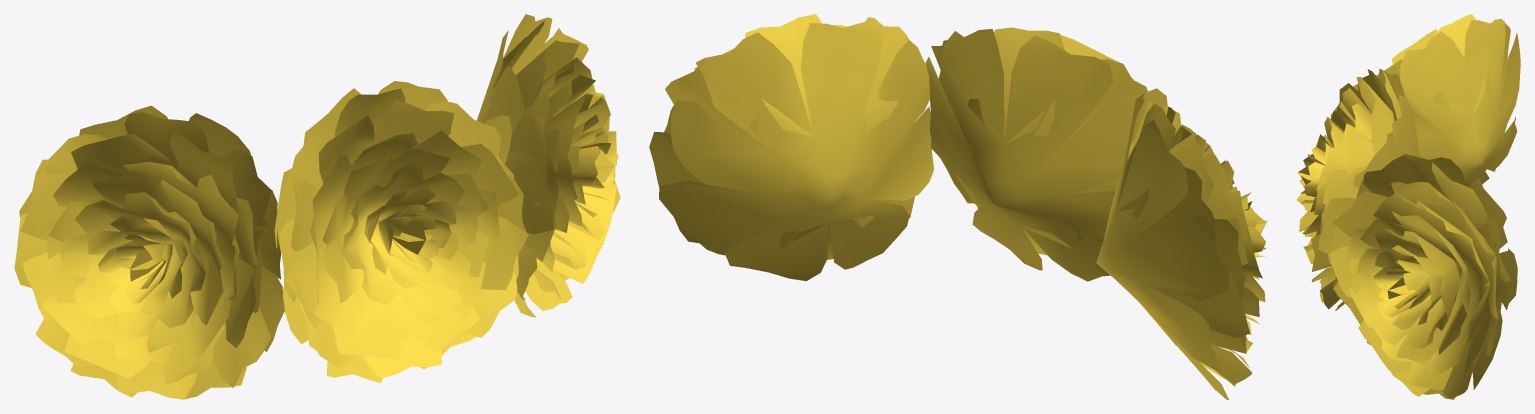
File: pm0477_00_Rig.fbx
3 views of the same model, side by side, from view 1: azimuth 30°, elevation 25°; view 2: azimuth 150°, elevation 25°; view 3: azimuth 270°, elevation 25° (orthographic). The views are drawn at different scales.
Parts seen in each view (by area): view 1: doodad_diadelosmuertos_2022_flower (1), doodad_diadelosmuertos_2022_flower, doodad_diadelosmuertos_2022_flower (2); view 2: doodad_diadelosmuertos_2022_flower (2), doodad_diadelosmuertos_2022_flower, doodad_diadelosmuertos_2022_flower (1); view 3: doodad_diadelosmuertos_2022_flower (2), doodad_diadelosmuertos_2022_flower (1), doodad_diadelosmuertos_2022_flower.
Part boxes in pixels (<box>): doodad_diadelosmuertos_2022_flower (1): <box>14,105,284,399</box>; doodad_diadelosmuertos_2022_flower: <box>274,81,528,382</box>; doodad_diadelosmuertos_2022_flower (2): <box>476,14,620,317</box>; doodad_diadelosmuertos_2022_flower (2): <box>649,14,933,281</box>; doodad_diadelosmuertos_2022_flower: <box>925,27,1167,281</box>; doodad_diadelosmuertos_2022_flower (1): <box>1096,93,1267,399</box>; doodad_diadelosmuertos_2022_flower (2): <box>1327,154,1517,399</box>; doodad_diadelosmuertos_2022_flower (1): <box>1330,14,1520,187</box>; doodad_diadelosmuertos_2022_flower: <box>1296,68,1419,310</box>.
Size of the model in its own units: 0.5553 by 0.2538 by 0.222.
